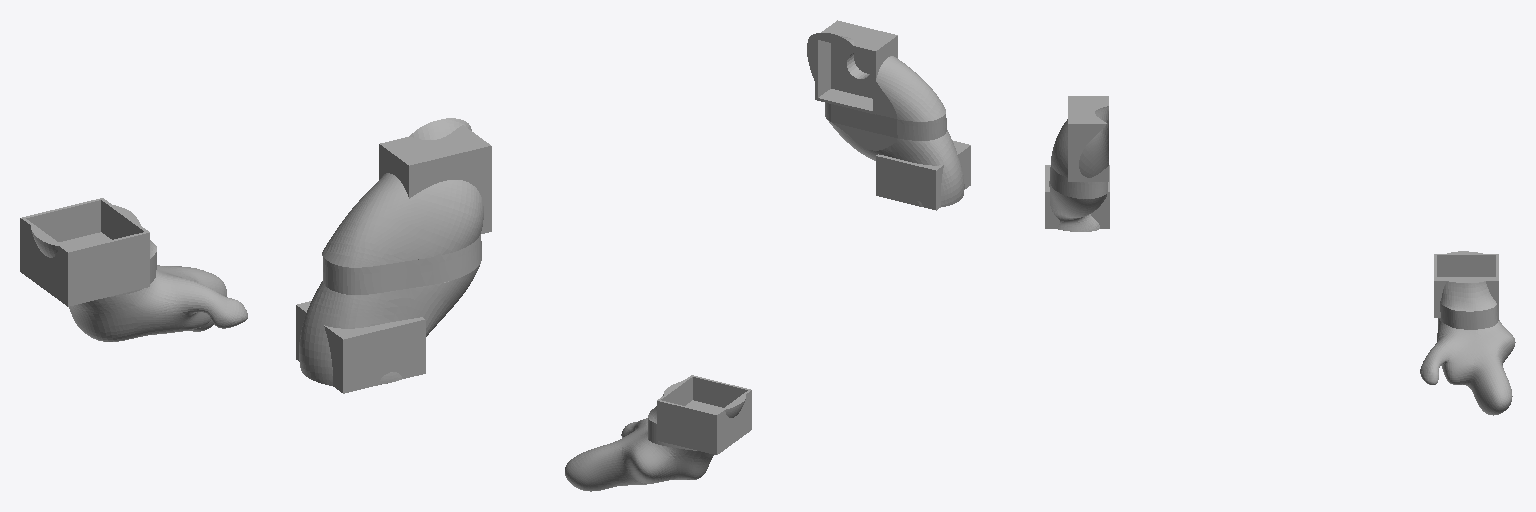
robot.urdf — FrogBot4_top-FrogBot4-z-3_bottom-FrogBot4-z-3:
<?xml version="1.0" ?>
<robot name="FrogBot4_top-FrogBot4-z-3_bottom-FrogBot4-z-3">

<material name="pla_5_percent_infill">
  <color rgba="0.700 0.700 0.700 1.000"/>
</material>

<link name="base_link">
  <inertial>
    <origin xyz="0 0 0" rpy="0 0 0"/>
    <mass value="1.4608203761339813"/>
    <inertia ixx="0.00496034401110324" iyy="0.010259632804669863" izz="0.010457868746855814" ixy="4.519338143051983e-05" iyz="5.808312742508133e-05" ixz="-0.001193761897574285"/>
  </inertial>
  <visual>
    <origin xyz="0 0 0" rpy="0 0 0"/>
    <geometry>
      <mesh filename="simple_meshes/base_link.stl" scale="0.001 0.001 0.001"/>
    </geometry>
    <material name="pla_5_percent_infill"/>
  </visual>
  <collision>
    <origin xyz="0 0 0" rpy="0 0 0"/>
    <geometry>
      <mesh filename="simple_meshes/base_link.stl" scale="0.001 0.001 0.001"/>
    </geometry>
  </collision>
</link>

<link name="body_1_0_1">
  <inertial>
    <origin xyz="-0.039935 -0.102508 -0.020563" rpy="0 0 0"/>
    <mass value="0.07144629366706118"/>
    <inertia ixx="7.542233123959208e-05" iyy="8.893405553124745e-05" izz="3.190656022220516e-05" ixy="8.958871266520293e-07" iyz="2.178495739828262e-06" ixz="-1.2484975052093947e-05"/>
  </inertial>
  <visual>
    <origin xyz="-0.039935 -0.102508 -0.020563" rpy="0 0 0"/>
    <geometry>
      <mesh filename="simple_meshes/body_1_0_1.stl" scale="0.001 0.001 0.001"/>
    </geometry>
    <material name="pla_5_percent_infill"/>
  </visual>
  <collision>
    <origin xyz="-0.039935 -0.102508 -0.020563" rpy="0 0 0"/>
    <geometry>
      <mesh filename="simple_meshes/body_1_0_1.stl" scale="0.001 0.001 0.001"/>
    </geometry>
  </collision>
</link>

<link name="body_1_1_1">
  <inertial>
    <origin xyz="0.084829 -0.102508 0.010182" rpy="0 0 0"/>
    <mass value="0.07880117918071514"/>
    <inertia ixx="5.4827380118847554e-05" iyy="9.552257855402967e-05" izz="6.0919720009596206e-05" ixy="-1.5235723012250926e-06" iyz="1.2687707818212512e-06" ixz="-2.1673407834108167e-05"/>
  </inertial>
  <visual>
    <origin xyz="0.084829 -0.102508 0.010182" rpy="0 0 0"/>
    <geometry>
      <mesh filename="simple_meshes/body_1_1_1.stl" scale="0.001 0.001 0.001"/>
    </geometry>
    <material name="pla_5_percent_infill"/>
  </visual>
  <collision>
    <origin xyz="0.084829 -0.102508 0.010182" rpy="0 0 0"/>
    <geometry>
      <mesh filename="simple_meshes/body_1_1_1.stl" scale="0.001 0.001 0.001"/>
    </geometry>
  </collision>
</link>

<link name="body_1_2_1">
  <inertial>
    <origin xyz="-0.032973 0.102508 -0.03352" rpy="0 0 0"/>
    <mass value="0.07776903154181106"/>
    <inertia ixx="9.526411621679168e-05" iyy="0.00010789375636346739" izz="3.535846431043741e-05" ixy="-2.37555302128609e-06" iyz="-1.0325512892246598e-05" ixz="-1.0659449811279055e-05"/>
  </inertial>
  <visual>
    <origin xyz="-0.032973 0.102508 -0.03352" rpy="0 0 0"/>
    <geometry>
      <mesh filename="simple_meshes/body_1_2_1.stl" scale="0.001 0.001 0.001"/>
    </geometry>
    <material name="pla_5_percent_infill"/>
  </visual>
  <collision>
    <origin xyz="-0.032973 0.102508 -0.03352" rpy="0 0 0"/>
    <geometry>
      <mesh filename="simple_meshes/body_1_2_1.stl" scale="0.001 0.001 0.001"/>
    </geometry>
  </collision>
</link>

<link name="body_1_3_1">
  <inertial>
    <origin xyz="0.075405 0.102508 -0.000907" rpy="0 0 0"/>
    <mass value="0.08438053198213159"/>
    <inertia ixx="6.0787729408156785e-05" iyy="0.00010241168200502803" izz="6.374248486077034e-05" ixy="3.0938201464342924e-07" iyz="-1.2872990172884584e-06" ixz="-2.1785447361448852e-05"/>
  </inertial>
  <visual>
    <origin xyz="0.075405 0.102508 -0.000907" rpy="0 0 0"/>
    <geometry>
      <mesh filename="simple_meshes/body_1_3_1.stl" scale="0.001 0.001 0.001"/>
    </geometry>
    <material name="pla_5_percent_infill"/>
  </visual>
  <collision>
    <origin xyz="0.075405 0.102508 -0.000907" rpy="0 0 0"/>
    <geometry>
      <mesh filename="simple_meshes/body_1_3_1.stl" scale="0.001 0.001 0.001"/>
    </geometry>
  </collision>
</link>

<link name="body_2_0_1">
  <inertial>
    <origin xyz="-0.025656 -0.145015 0.100436" rpy="0 0 0"/>
    <mass value="0.07007487479104725"/>
    <inertia ixx="4.389398440364121e-05" iyy="6.91446167399943e-05" izz="8.004083187596457e-05" ixy="-6.577873622886938e-07" iyz="-1.1177342819422391e-07" ixz="1.967434061046693e-05"/>
  </inertial>
  <visual>
    <origin xyz="-0.025656 -0.145015 0.100436" rpy="0 0 0"/>
    <geometry>
      <mesh filename="simple_meshes/body_2_0_1.stl" scale="0.001 0.001 0.001"/>
    </geometry>
    <material name="pla_5_percent_infill"/>
  </visual>
  <collision>
    <origin xyz="-0.025656 -0.145015 0.100436" rpy="0 0 0"/>
    <geometry>
      <mesh filename="simple_meshes/body_2_0_1.stl" scale="0.001 0.001 0.001"/>
    </geometry>
  </collision>
</link>

<link name="body_2_1_1">
  <inertial>
    <origin xyz="0.114857 -0.145661 0.100438" rpy="0 0 0"/>
    <mass value="0.06298721520008338"/>
    <inertia ixx="3.2514082299281086e-05" iyy="6.482717761447038e-05" izz="5.905490117860722e-05" ixy="-5.609012037292231e-06" iyz="3.887319510953446e-06" ixz="2.0068575656371568e-05"/>
  </inertial>
  <visual>
    <origin xyz="0.114857 -0.145661 0.100438" rpy="0 0 0"/>
    <geometry>
      <mesh filename="simple_meshes/body_2_1_1.stl" scale="0.001 0.001 0.001"/>
    </geometry>
    <material name="pla_5_percent_infill"/>
  </visual>
  <collision>
    <origin xyz="0.114857 -0.145661 0.100438" rpy="0 0 0"/>
    <geometry>
      <mesh filename="simple_meshes/body_2_1_1.stl" scale="0.001 0.001 0.001"/>
    </geometry>
  </collision>
</link>

<link name="body_2_2_1">
  <inertial>
    <origin xyz="-0.022601 0.152053 0.100436" rpy="0 0 0"/>
    <mass value="0.07770135432815288"/>
    <inertia ixx="4.8473858452904514e-05" iyy="7.492619992616623e-05" izz="8.720529197772837e-05" ixy="-1.518928222088759e-06" iyz="2.2126559400589135e-07" ixz="2.11838450998919e-05"/>
  </inertial>
  <visual>
    <origin xyz="-0.022601 0.152053 0.100436" rpy="0 0 0"/>
    <geometry>
      <mesh filename="simple_meshes/body_2_2_1.stl" scale="0.001 0.001 0.001"/>
    </geometry>
    <material name="pla_5_percent_infill"/>
  </visual>
  <collision>
    <origin xyz="-0.022601 0.152053 0.100436" rpy="0 0 0"/>
    <geometry>
      <mesh filename="simple_meshes/body_2_2_1.stl" scale="0.001 0.001 0.001"/>
    </geometry>
  </collision>
</link>

<link name="body_2_3_1">
  <inertial>
    <origin xyz="0.12145 0.146005 0.100436" rpy="0 0 0"/>
    <mass value="0.060238847933080736"/>
    <inertia ixx="3.856857507410693e-05" iyy="5.224331007420112e-05" izz="5.9562273070122487e-05" ixy="8.22696729869119e-06" iyz="-6.758235078979874e-06" ixz="1.4434811045756506e-05"/>
  </inertial>
  <visual>
    <origin xyz="0.12145 0.146005 0.100436" rpy="0 0 0"/>
    <geometry>
      <mesh filename="simple_meshes/body_2_3_1.stl" scale="0.001 0.001 0.001"/>
    </geometry>
    <material name="pla_5_percent_infill"/>
  </visual>
  <collision>
    <origin xyz="0.12145 0.146005 0.100436" rpy="0 0 0"/>
    <geometry>
      <mesh filename="simple_meshes/body_2_3_1.stl" scale="0.001 0.001 0.001"/>
    </geometry>
  </collision>
</link>

<joint name="joint_1_0" type="revolute">
  <origin xyz="0.039935 0.102508 0.020563" rpy="0 0 0"/>
  <parent link="base_link"/>
  <child link="body_1_0_1"/>
  <axis xyz="0.0 1.0 0.0"/>
  <limit upper="1.2" lower="-1.2" effort="3.8" velocity="5.4"/>
</joint>
<transmission name="joint_1_0_tran">
  <type>transmission_interface/SimpleTransmission</type>
  <joint name="joint_1_0">
    <hardwareInterface>PositionJointInterface</hardwareInterface>
  </joint>
  <actuator name="joint_1_0_actr">
    <hardwareInterface>PositionJointInterface</hardwareInterface>
    <mechanicalReduction>1</mechanicalReduction>
  </actuator>
</transmission>

<joint name="joint_1_1" type="revolute">
  <origin xyz="-0.084829 0.102508 -0.010182" rpy="0 0 0"/>
  <parent link="base_link"/>
  <child link="body_1_1_1"/>
  <axis xyz="0.0 1.0 0.0"/>
  <limit upper="1.2" lower="-1.2" effort="3.8" velocity="5.4"/>
</joint>
<transmission name="joint_1_1_tran">
  <type>transmission_interface/SimpleTransmission</type>
  <joint name="joint_1_1">
    <hardwareInterface>PositionJointInterface</hardwareInterface>
  </joint>
  <actuator name="joint_1_1_actr">
    <hardwareInterface>PositionJointInterface</hardwareInterface>
    <mechanicalReduction>1</mechanicalReduction>
  </actuator>
</transmission>

<joint name="joint_1_2" type="revolute">
  <origin xyz="0.032973 -0.102508 0.03352" rpy="0 0 0"/>
  <parent link="base_link"/>
  <child link="body_1_2_1"/>
  <axis xyz="0.0 1.0 0.0"/>
  <limit upper="1.2" lower="-1.2" effort="3.8" velocity="5.4"/>
</joint>
<transmission name="joint_1_2_tran">
  <type>transmission_interface/SimpleTransmission</type>
  <joint name="joint_1_2">
    <hardwareInterface>PositionJointInterface</hardwareInterface>
  </joint>
  <actuator name="joint_1_2_actr">
    <hardwareInterface>PositionJointInterface</hardwareInterface>
    <mechanicalReduction>1</mechanicalReduction>
  </actuator>
</transmission>

<joint name="joint_1_3" type="revolute">
  <origin xyz="-0.075405 -0.102508 0.000907" rpy="0 0 0"/>
  <parent link="base_link"/>
  <child link="body_1_3_1"/>
  <axis xyz="0.0 1.0 0.0"/>
  <limit upper="1.2" lower="-1.2" effort="3.8" velocity="5.4"/>
</joint>
<transmission name="joint_1_3_tran">
  <type>transmission_interface/SimpleTransmission</type>
  <joint name="joint_1_3">
    <hardwareInterface>PositionJointInterface</hardwareInterface>
  </joint>
  <actuator name="joint_1_3_actr">
    <hardwareInterface>PositionJointInterface</hardwareInterface>
    <mechanicalReduction>1</mechanicalReduction>
  </actuator>
</transmission>

<joint name="joint_2_0" type="revolute">
  <origin xyz="-0.014279 0.042507 -0.120999" rpy="0 0 0"/>
  <parent link="body_1_0_1"/>
  <child link="body_2_0_1"/>
  <axis xyz="0.0 0.0 1.0"/>
  <limit upper="1.2" lower="-1.2" effort="3.8" velocity="5.4"/>
</joint>
<transmission name="joint_2_0_tran">
  <type>transmission_interface/SimpleTransmission</type>
  <joint name="joint_2_0">
    <hardwareInterface>PositionJointInterface</hardwareInterface>
  </joint>
  <actuator name="joint_2_0_actr">
    <hardwareInterface>PositionJointInterface</hardwareInterface>
    <mechanicalReduction>1</mechanicalReduction>
  </actuator>
</transmission>

<joint name="joint_2_1" type="revolute">
  <origin xyz="-0.030028 0.043153 -0.090256" rpy="0 0 0"/>
  <parent link="body_1_1_1"/>
  <child link="body_2_1_1"/>
  <axis xyz="0.0 0.0 1.0"/>
  <limit upper="1.2" lower="-1.2" effort="3.8" velocity="5.4"/>
</joint>
<transmission name="joint_2_1_tran">
  <type>transmission_interface/SimpleTransmission</type>
  <joint name="joint_2_1">
    <hardwareInterface>PositionJointInterface</hardwareInterface>
  </joint>
  <actuator name="joint_2_1_actr">
    <hardwareInterface>PositionJointInterface</hardwareInterface>
    <mechanicalReduction>1</mechanicalReduction>
  </actuator>
</transmission>

<joint name="joint_2_2" type="revolute">
  <origin xyz="-0.010372 -0.049545 -0.133956" rpy="0 0 0"/>
  <parent link="body_1_2_1"/>
  <child link="body_2_2_1"/>
  <axis xyz="0.0 0.0 1.0"/>
  <limit upper="1.2" lower="-1.2" effort="3.8" velocity="5.4"/>
</joint>
<transmission name="joint_2_2_tran">
  <type>transmission_interface/SimpleTransmission</type>
  <joint name="joint_2_2">
    <hardwareInterface>PositionJointInterface</hardwareInterface>
  </joint>
  <actuator name="joint_2_2_actr">
    <hardwareInterface>PositionJointInterface</hardwareInterface>
    <mechanicalReduction>1</mechanicalReduction>
  </actuator>
</transmission>

<joint name="joint_2_3" type="revolute">
  <origin xyz="-0.046045 -0.043497 -0.101343" rpy="0 0 0"/>
  <parent link="body_1_3_1"/>
  <child link="body_2_3_1"/>
  <axis xyz="0.0 0.0 1.0"/>
  <limit upper="1.2" lower="-1.2" effort="3.8" velocity="5.4"/>
</joint>
<transmission name="joint_2_3_tran">
  <type>transmission_interface/SimpleTransmission</type>
  <joint name="joint_2_3">
    <hardwareInterface>PositionJointInterface</hardwareInterface>
  </joint>
  <actuator name="joint_2_3_actr">
    <hardwareInterface>PositionJointInterface</hardwareInterface>
    <mechanicalReduction>1</mechanicalReduction>
  </actuator>
</transmission>

</robot>

--- Render facts (derived) ---
3 views of the same robot in one strip: view 1: azimuth 30°, elevation 25°; view 2: azimuth 150°, elevation 25°; view 3: azimuth 270°, elevation 25° (orthographic).
Robot: FrogBot4_top-FrogBot4-z-3_bottom-FrogBot4-z-3 — 9 links, 8 joints (8 revolute); root link base_link; default pose: every joint at zero.
Visible links, largest first — view 1: body_1_3_1, body_2_1_1; view 2: body_1_3_1, body_2_1_1; view 3: body_2_1_1, body_1_3_1.
Boxes of the visible links, box(x1,y1,x2,y2) form: body_1_3_1: box(296, 118, 491, 393); body_2_1_1: box(20, 198, 247, 341); body_1_3_1: box(807, 20, 970, 210); body_2_1_1: box(565, 375, 751, 491); body_2_1_1: box(1420, 251, 1515, 415); body_1_3_1: box(1045, 96, 1109, 231).
Bounding box of the posed robot: 0.1341 × 0.3533 × 0.2389 m (x, y, z).
2 mesh visuals loaded from 9 distinct referenced files (2 binary STL); not drawn: 7 (reference not matched to a file when rendering).